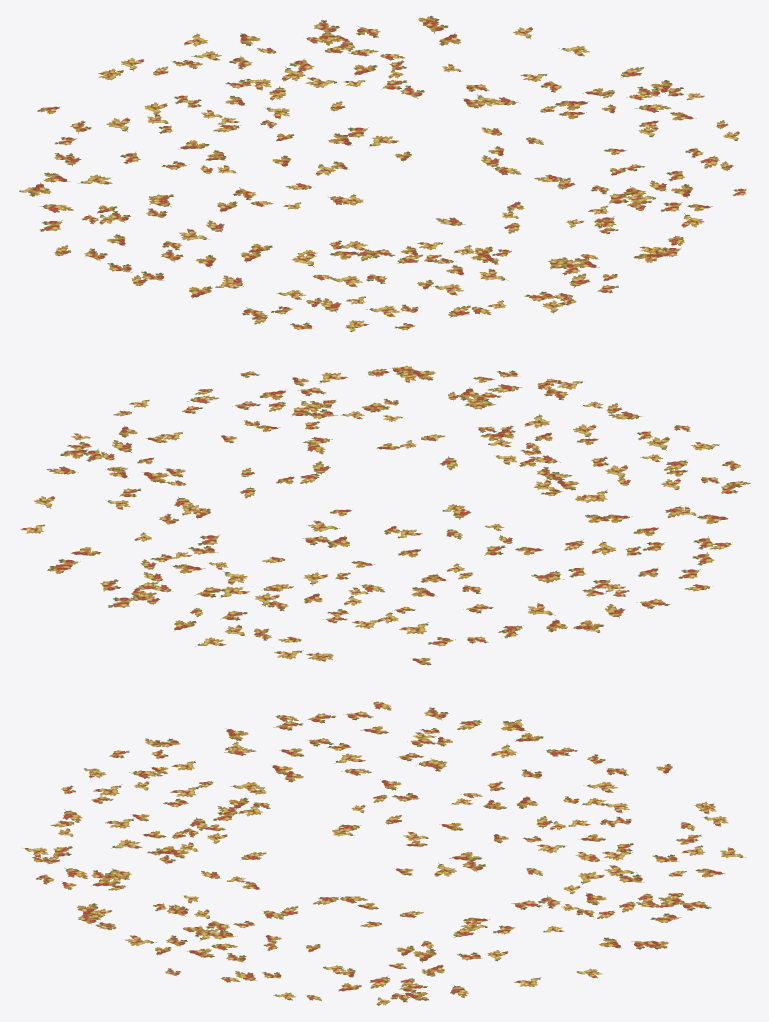
File: pommier_vieux_a.fbx
The picture shows the model from 3 angles, top to bottom: view 1: azimuth 30°, elevation 25°; view 2: azimuth 150°, elevation 25°; view 3: azimuth 270°, elevation 25°; orthographic projection. The views are drawn at different scales.
Parts seen in each view (by area): view 1: pommier_vieux_a_feuilles_sol; view 2: pommier_vieux_a_feuilles_sol; view 3: pommier_vieux_a_feuilles_sol.
Part boxes in pixels (x1,y1,x2,y2): pommier_vieux_a_feuilles_sol: [19, 15, 746, 331]; pommier_vieux_a_feuilles_sol: [20, 365, 750, 665]; pommier_vieux_a_feuilles_sol: [22, 701, 746, 1005].
Size of what is drawn, in the model's own units: 8.95 by 0.00596 by 9.01.
